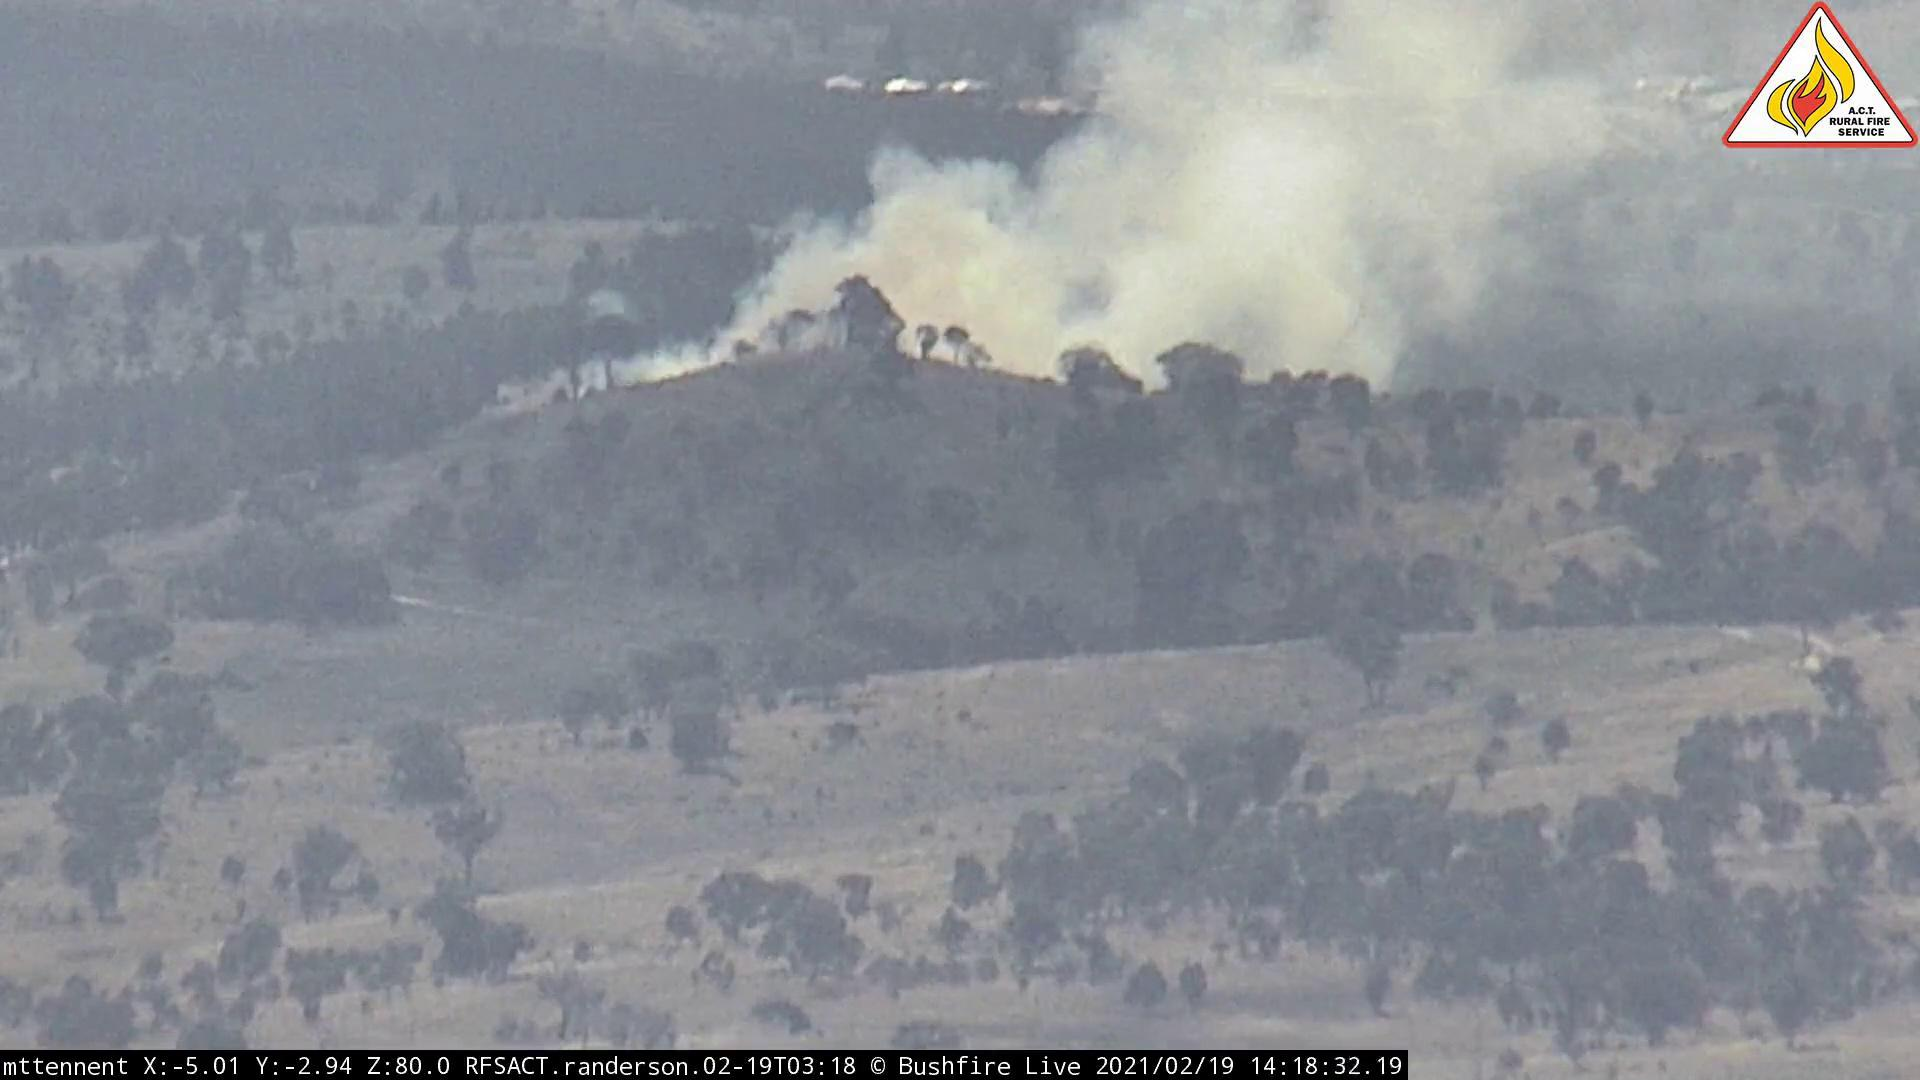instance_salient_object: (500, 3, 1568, 440)
